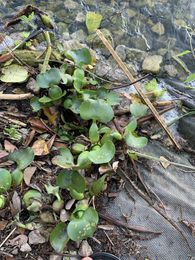water_hyacinth: (2, 44, 145, 253)
